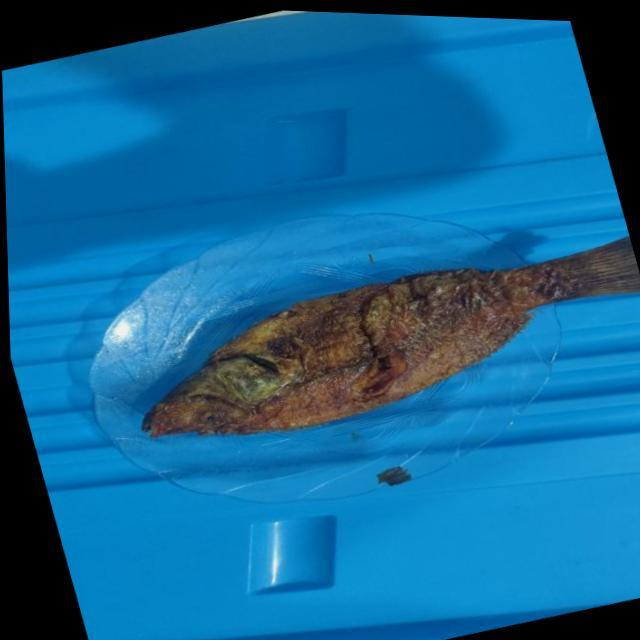ikan_mujair: (142, 236, 640, 437)
